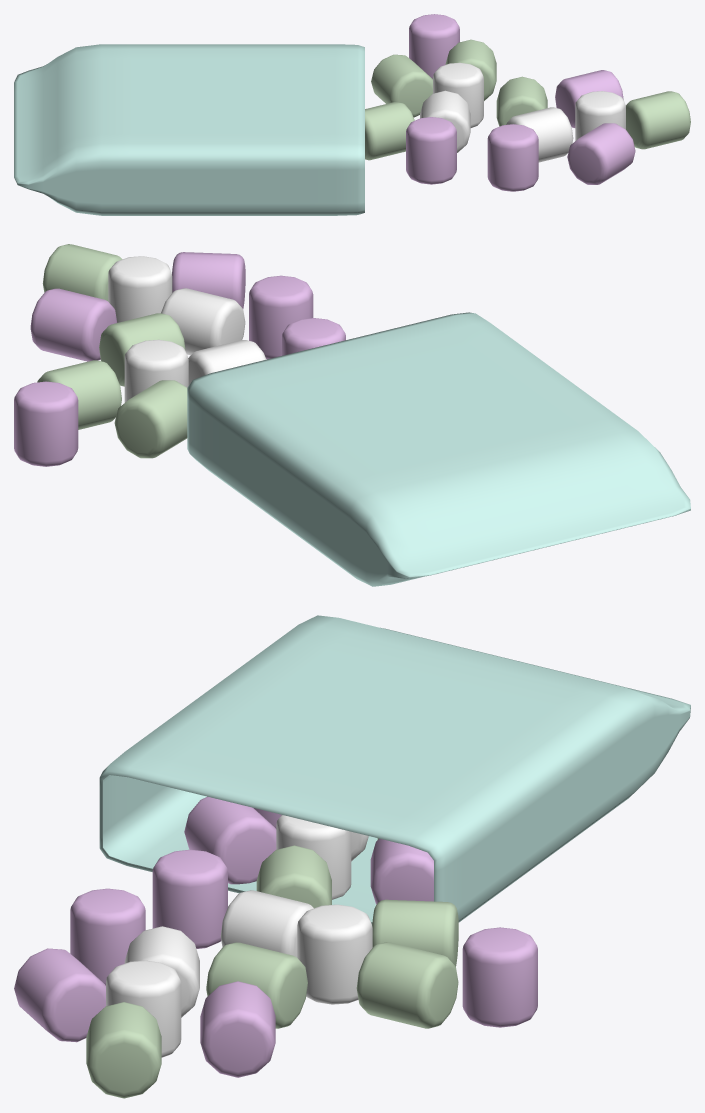
File: Marshmallow_227.gltf
3 views of the same model, one above another, from view 1: azimuth 30°, elevation 25°; view 2: azimuth 150°, elevation 25°; view 3: azimuth 270°, elevation 25° (orthographic). The views are drawn at different scales.
Parts seen in each view (by area): view 1: node-0; view 2: node-0; view 3: node-0.
Part boxes in pixels (x1=…): node-0: x1=14, y1=14, x2=690, y2=215; node-0: x1=14, y1=244, x2=690, y2=586; node-0: x1=14, y1=615, x2=690, y2=1098.
Bounding box in the file's own units: 129 × 14.87 × 87.35.
